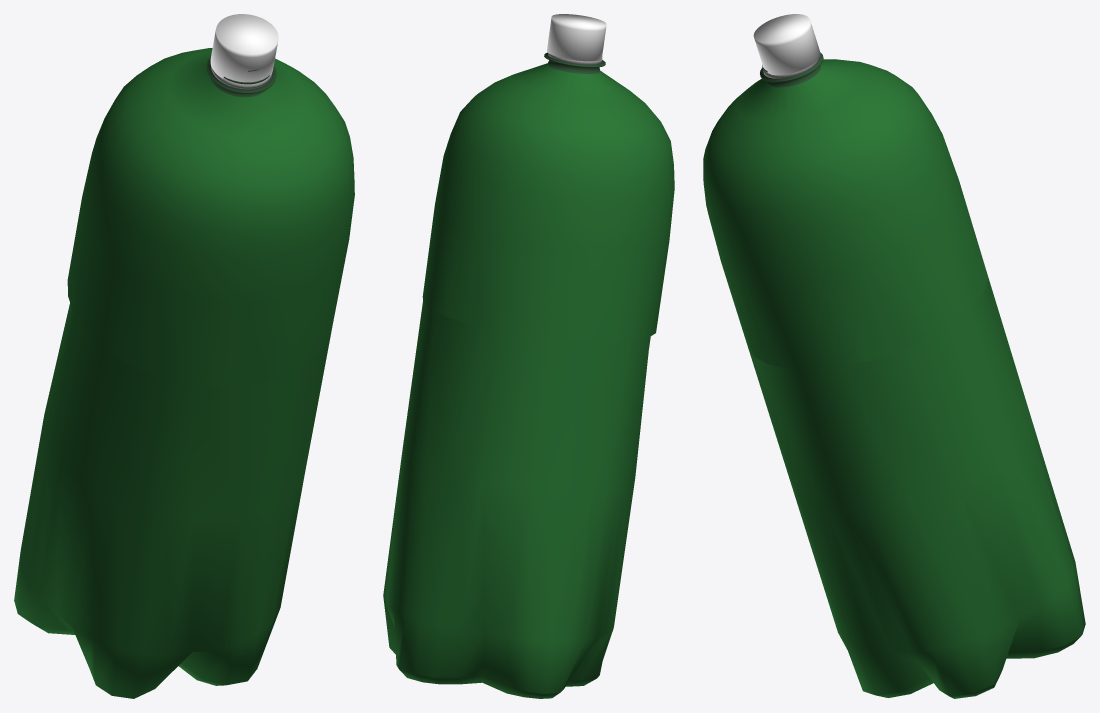
Rendered from plastic bottle.glb.
3 renders of one model, left to right at view 1: azimuth 30°, elevation 25°; view 2: azimuth 150°, elevation 25°; view 3: azimuth 270°, elevation 25°, orthographic. The views are drawn at different scales.
Visible parts, largest first — view 1: tampa;cap; view 2: tampa;cap; view 3: tampa;cap.
Boxes of the visible parts, <box> form: tampa;cap: <box>14,14,354,698</box>; tampa;cap: <box>383,14,674,698</box>; tampa;cap: <box>703,14,1085,698</box>.
Bounding box in the file's own units: 6.91 × 19.84 × 10.49.
